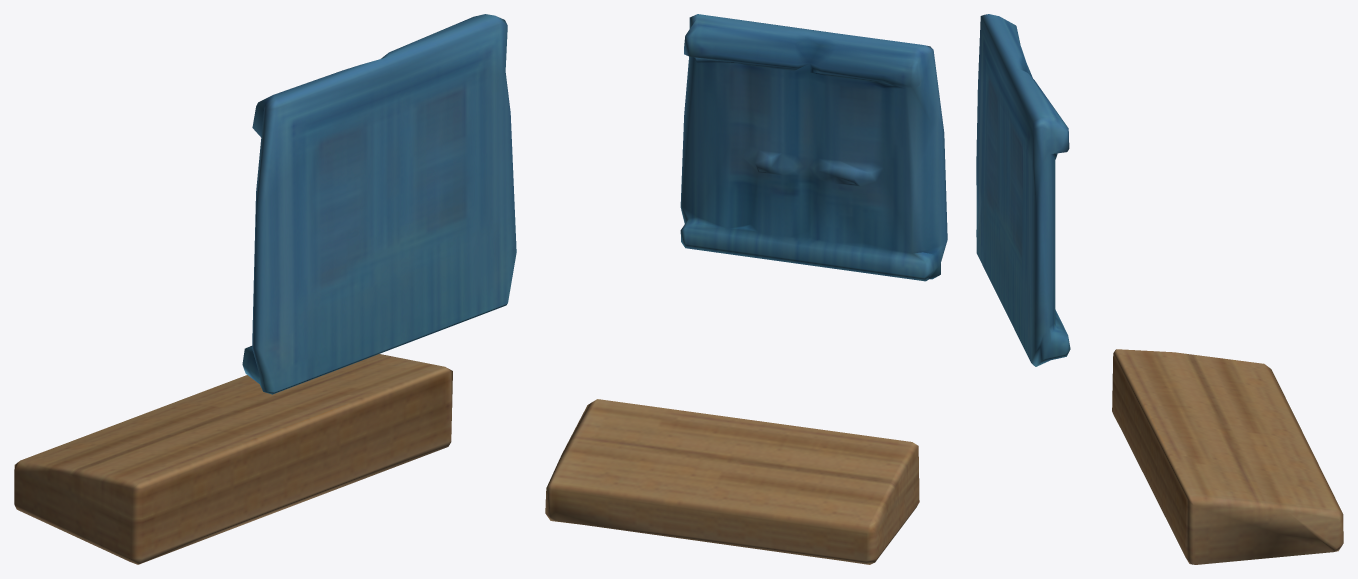
File: door1.obj
3 renders of one model, left to right at view 1: azimuth 30°, elevation 25°; view 2: azimuth 150°, elevation 25°; view 3: azimuth 270°, elevation 25°, orthographic. The views are drawn at different scales.
Parts seen in each view (by area): view 1: Doorgeom1; view 2: Doorgeom1; view 3: Doorgeom1.
Boxes of the visible parts, left/top/right/bottom form: Doorgeom1: left=14, top=14, right=516, bottom=564; Doorgeom1: left=545, top=14, right=947, bottom=564; Doorgeom1: left=976, top=14, right=1343, bottom=564.
Bounding box in the file's own units: 3.32 × 4.03 × 3.11.
Materials: 1 (1 with a texture image).
